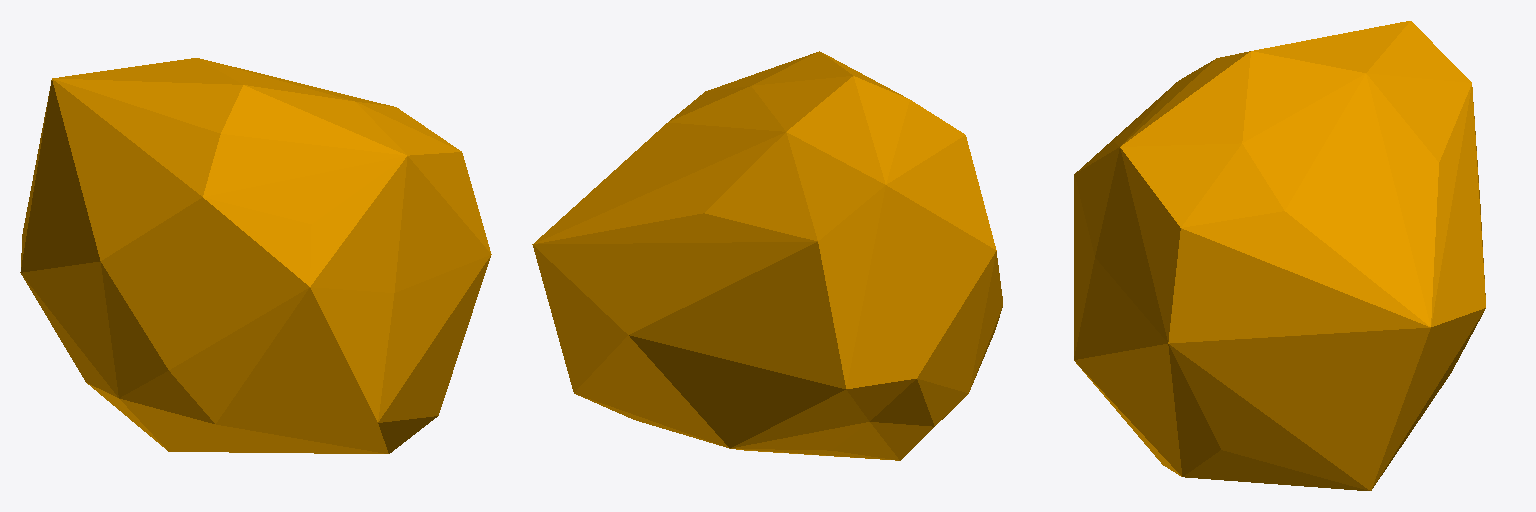
The robot description file, URDF, robot "054_010_4374":
<?xml version="1.0"?>
<robot name="054_010_4374">
  <link name="link">
    <contact>
      <lateral_friction value="0.6"/>
    </contact>
    <inertial>
      <mass value = "0.3324939401530767"/>
      <inertia ixx="0.00012591279997027706" ixy="-3.960439195702687e-06" ixz="-9.728709856880444e-06" iyy="0.00013644168308422629" iyz="2.186533526793511e-06" izz="0.00014124675835452372" />
    </inertial>
    <visual name="visual">
      <geometry>
        <mesh filename="054_010_4374.obj"/>
      </geometry>
    </visual>
    <collision name="collision">
      <geometry>
        <mesh filename="054_010_4374.obj"/>
      </geometry>
    </collision>
  </link>
</robot>

--- What the picture shows (computed from the rendered views, not written in the file) ---
The picture shows the robot from 3 angles, left to right: view 1: azimuth 30°, elevation 25°; view 2: azimuth 150°, elevation 25°; view 3: azimuth 270°, elevation 25°; orthographic projection.
Model 054_010_4374 with 1 links and 0 joints (none), rooted at link, posed every joint at zero.
Links seen in each view (by area): view 1: link; view 2: link; view 3: link.
Boxes of the visible links, <box> form: link: <box>20,58,491,453</box>; link: <box>532,51,1002,460</box>; link: <box>1074,21,1485,490</box>.
Size in the robot's own frame: 0.0646 by 0.061 by 0.0594 metres.
1 mesh visuals loaded from 1 distinct referenced files (1 OBJ).
